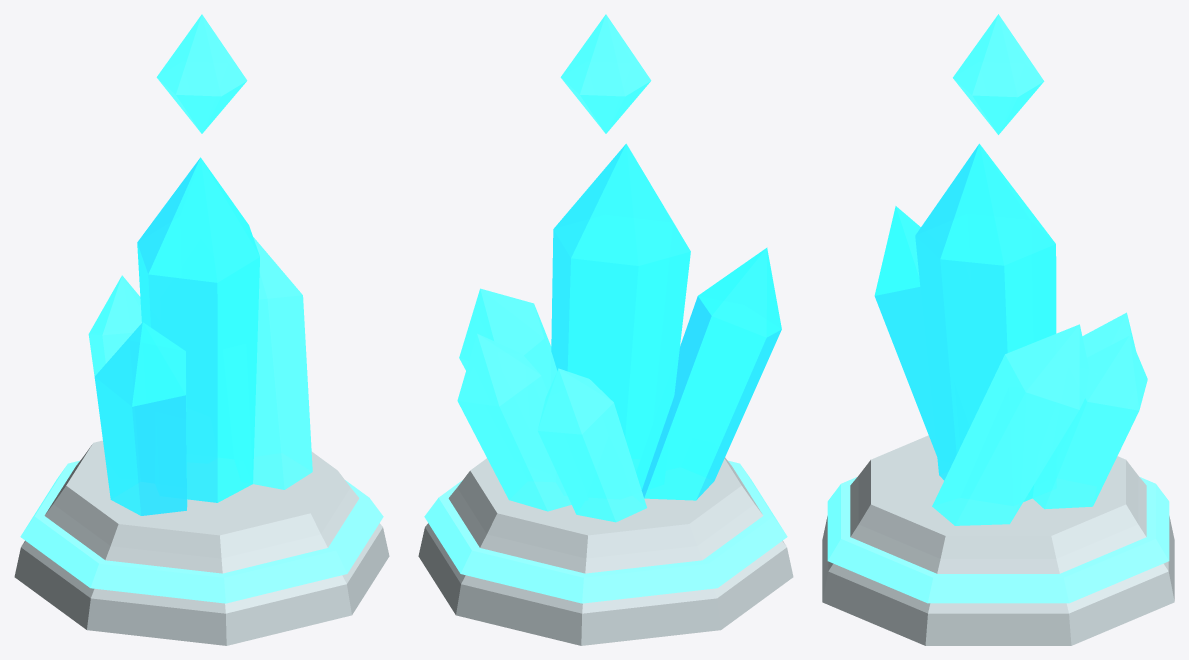
Rendered from CRY_Secret_Shrine_Interactive.fbx.
The picture shows the model from 3 angles, left to right: view 1: azimuth 30°, elevation 25°; view 2: azimuth 150°, elevation 25°; view 3: azimuth 270°, elevation 25°; orthographic projection.
Parts seen in each view (by area): view 1: CRY_Secret_Shrine_Interactive; view 2: CRY_Secret_Shrine_Interactive; view 3: CRY_Secret_Shrine_Interactive.
Boxes of the visible parts, x1,y1,x2,y2 form: CRY_Secret_Shrine_Interactive: (14, 14, 389, 645); CRY_Secret_Shrine_Interactive: (418, 14, 793, 645); CRY_Secret_Shrine_Interactive: (822, 14, 1174, 645).
Size of the model in its own units: 1.55 by 2.71 by 1.55.
